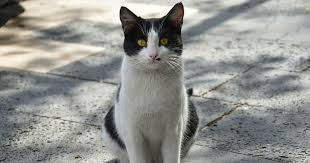kedi: (85, 1, 202, 163)
